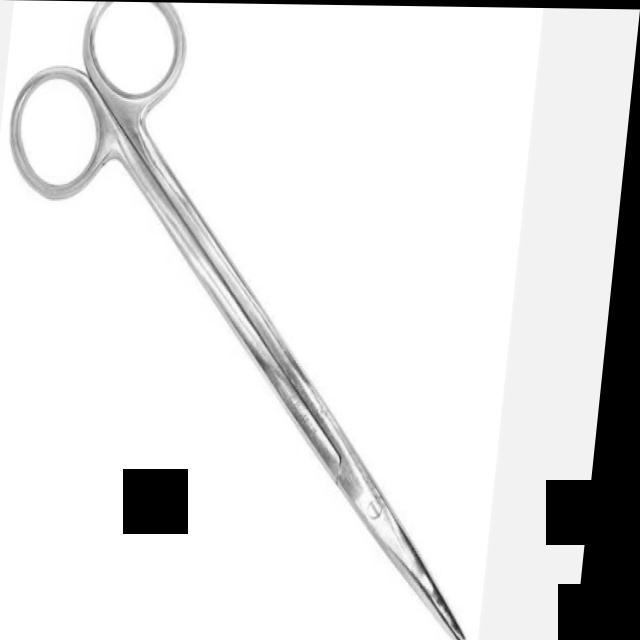Metzenbaum Sciccors: (0, 0, 534, 640)
